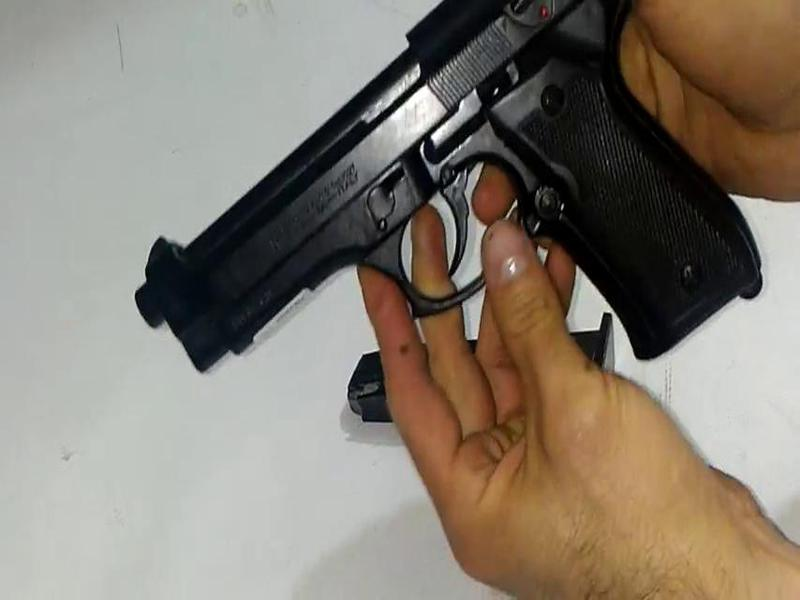Pistola: (123, 1, 780, 388)
